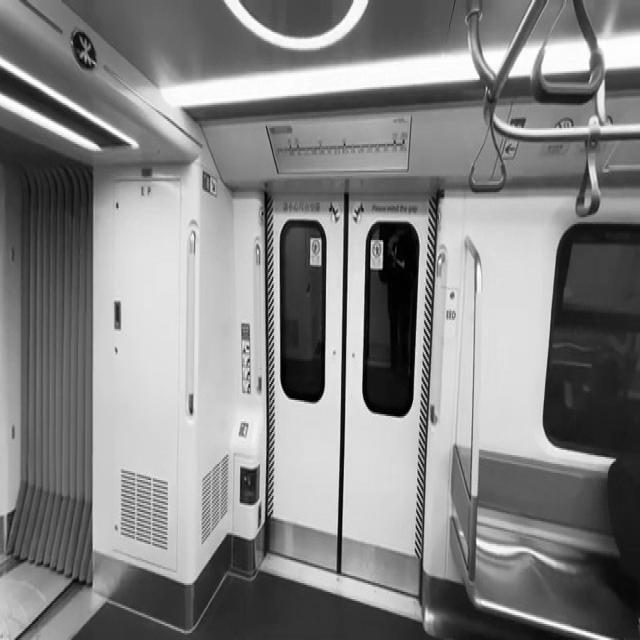bus-door: (260, 188, 440, 622)
